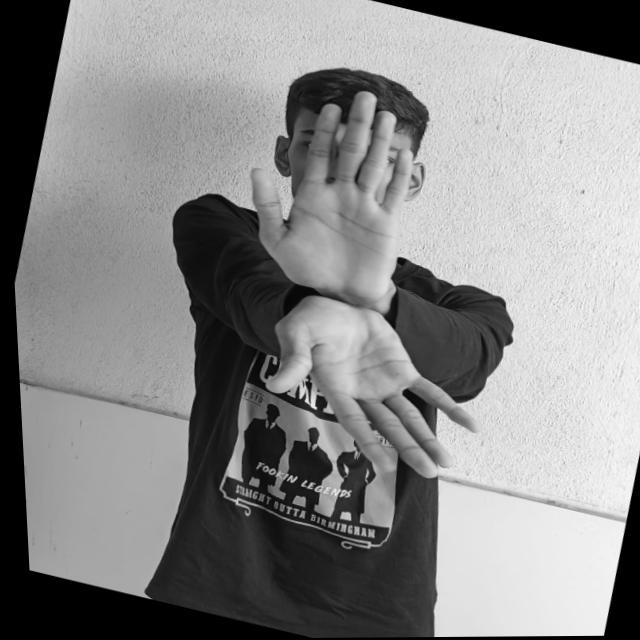Morning: (181, 62, 554, 492)
